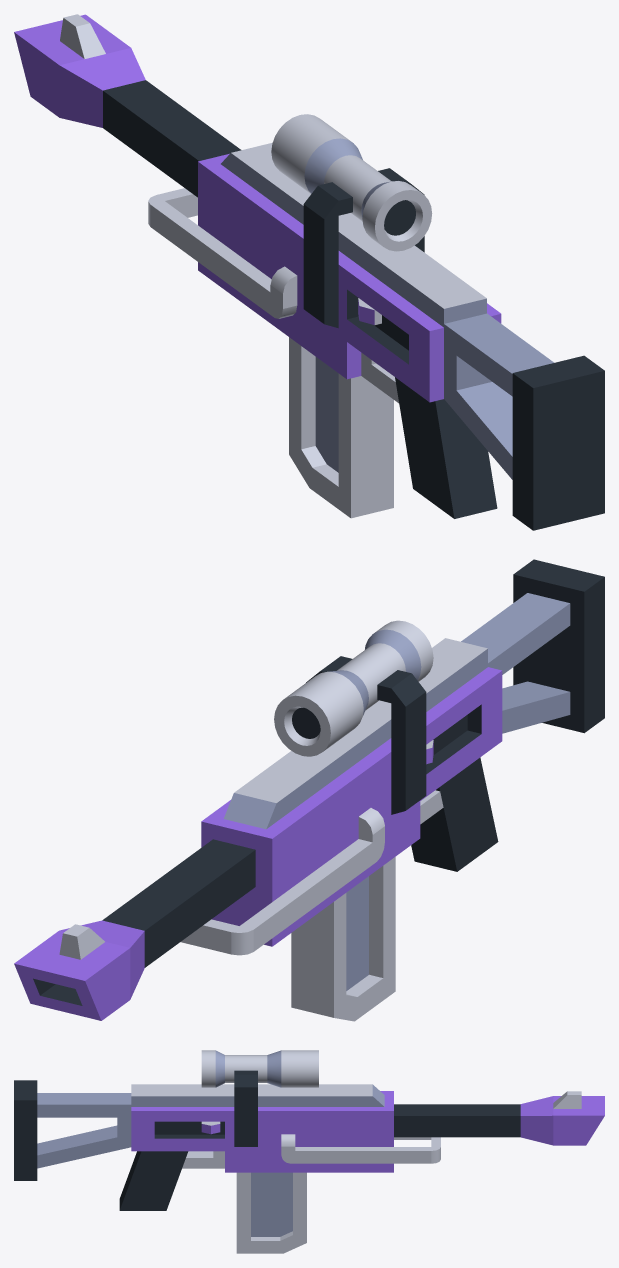
Rendered from blasterF.obj.
3 views of the same model, one above another, from view 1: azimuth 30°, elevation 25°; view 2: azimuth 150°, elevation 25°; view 3: azimuth 270°, elevation 25° (orthographic). The views are drawn at different scales.
Visible parts, largest first — view 1: blasterF; view 2: blasterF; view 3: blasterF.
Part boxes in pixels (x1,y1,x2,y2): blasterF: [14, 14, 604, 530]; blasterF: [14, 559, 604, 1021]; blasterF: [14, 1050, 604, 1253].
Bounding box in the file's own units: 0.14 × 0.46 × 1.26.
